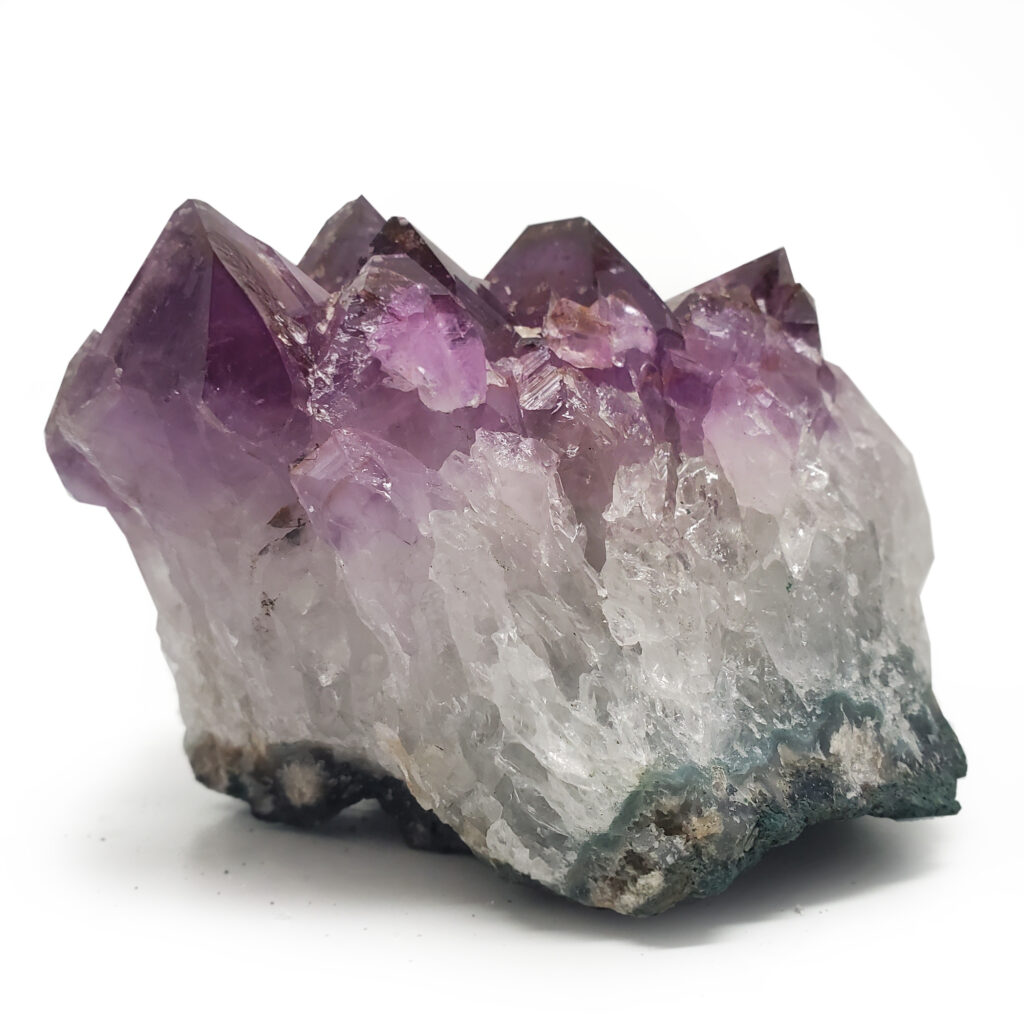Amethyst: (44, 191, 859, 515)
